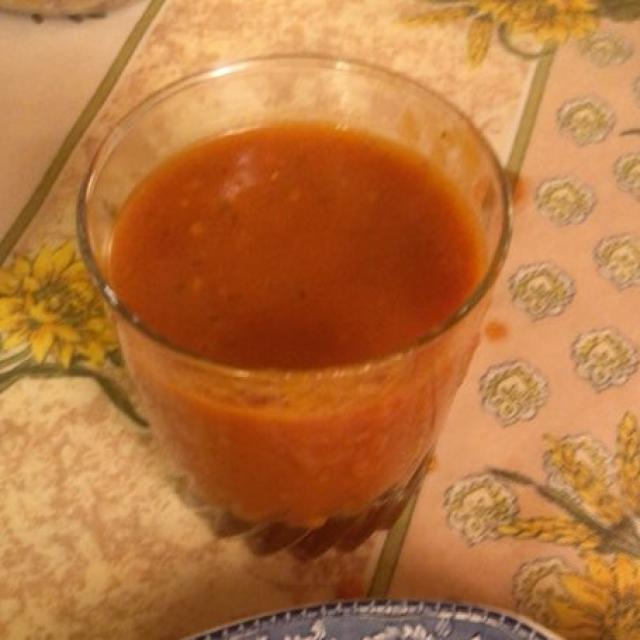soup: (117, 124, 478, 362)
